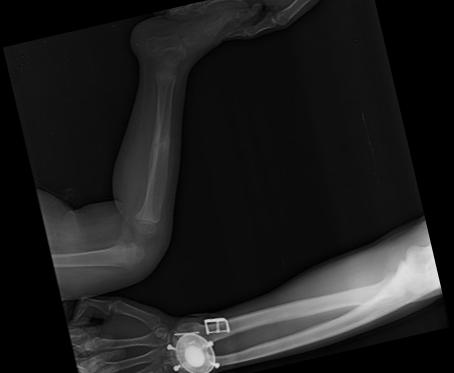fractured: (150, 133, 169, 150)
